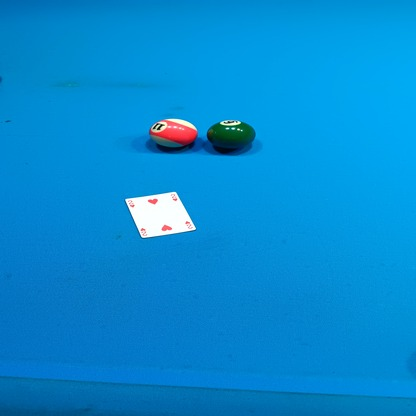2h: (183, 217, 194, 230), (166, 192, 178, 203), (127, 199, 135, 209), (141, 227, 147, 237)
